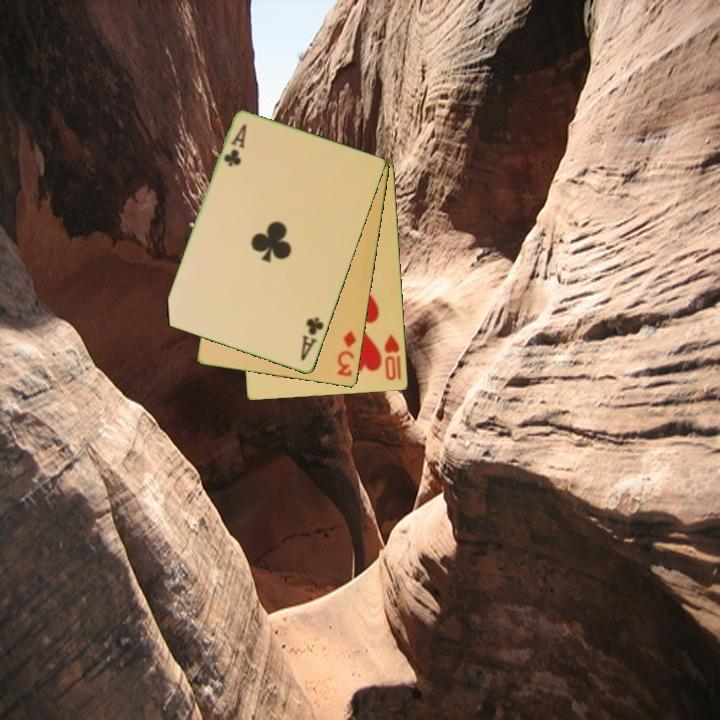10h: (381, 331, 404, 384)
3d: (334, 327, 359, 380)
Ac: (297, 314, 327, 364), (220, 121, 249, 170)
